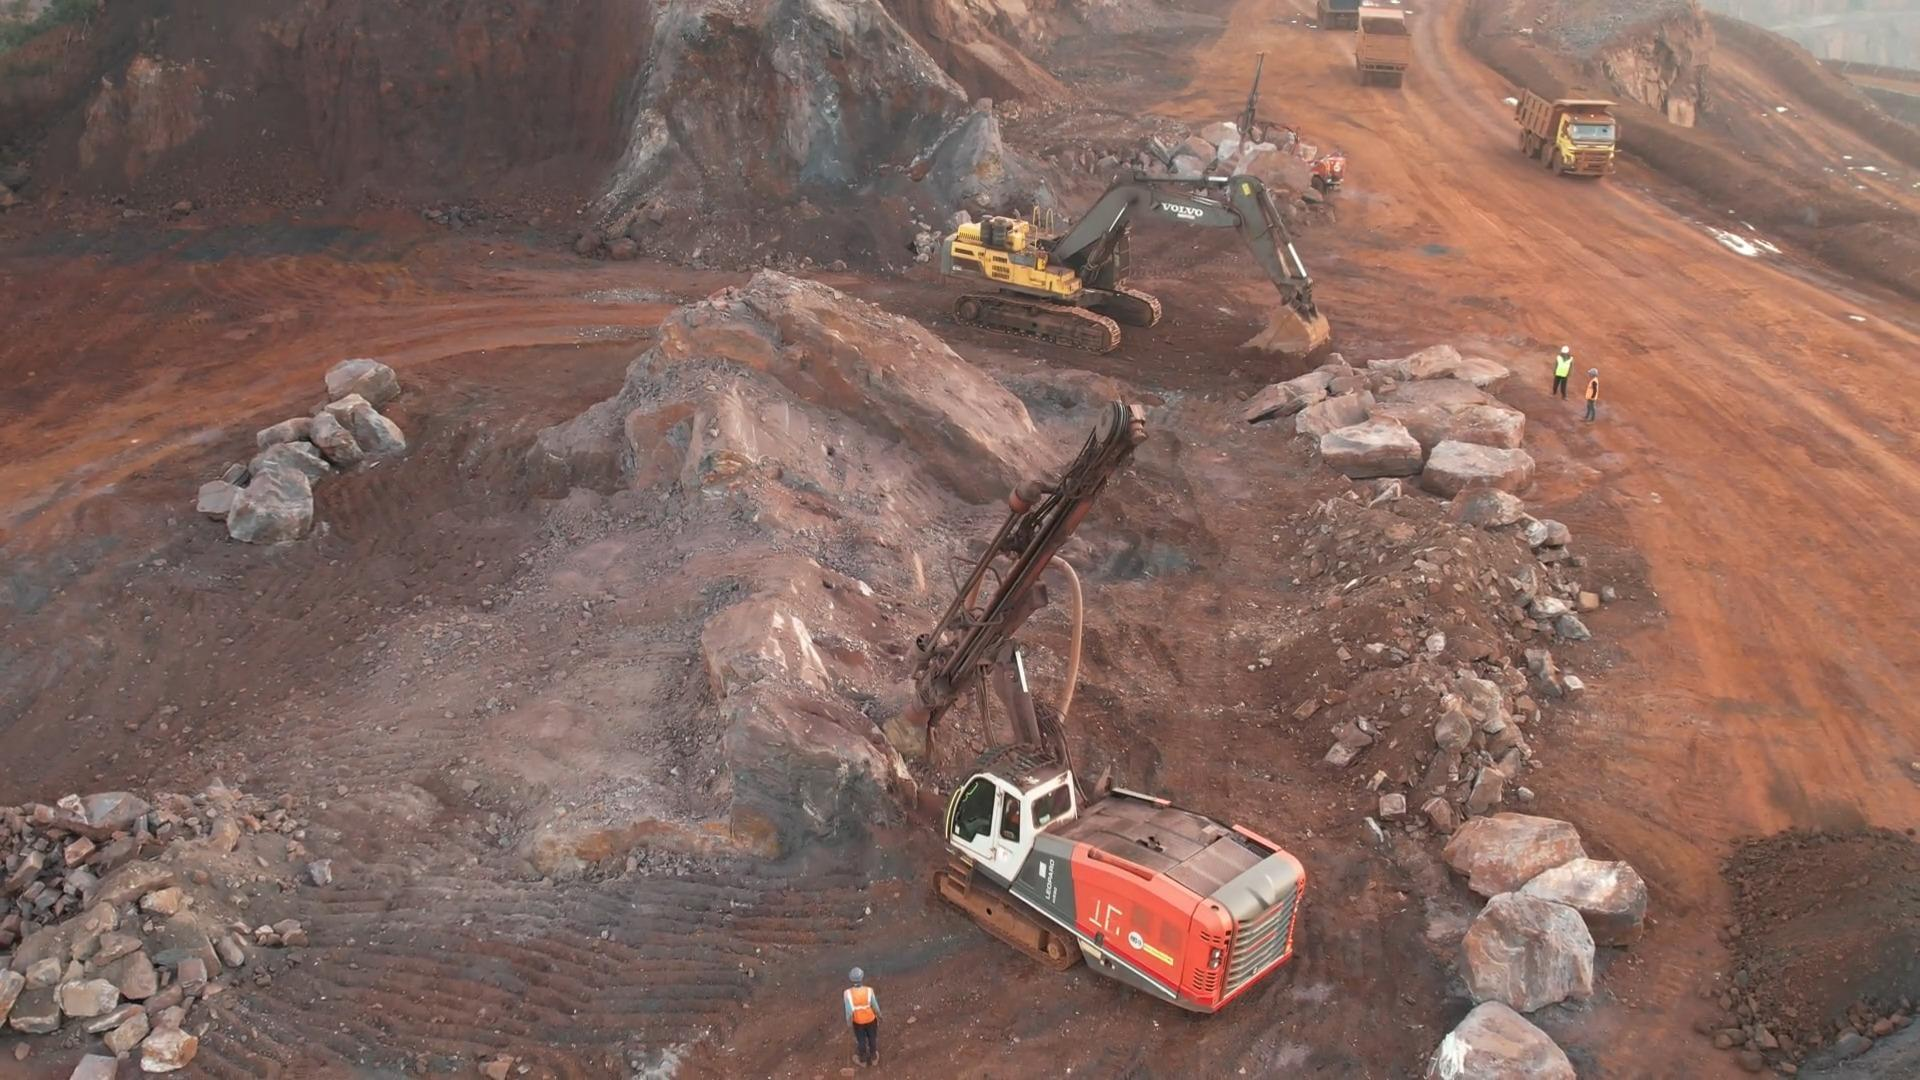excavator: (944, 178, 1308, 334)
